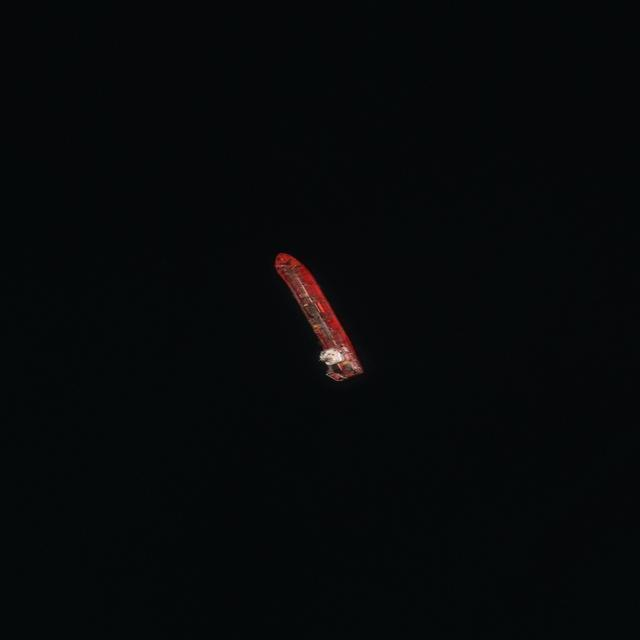Oil Tanker: (271, 243, 363, 385)
